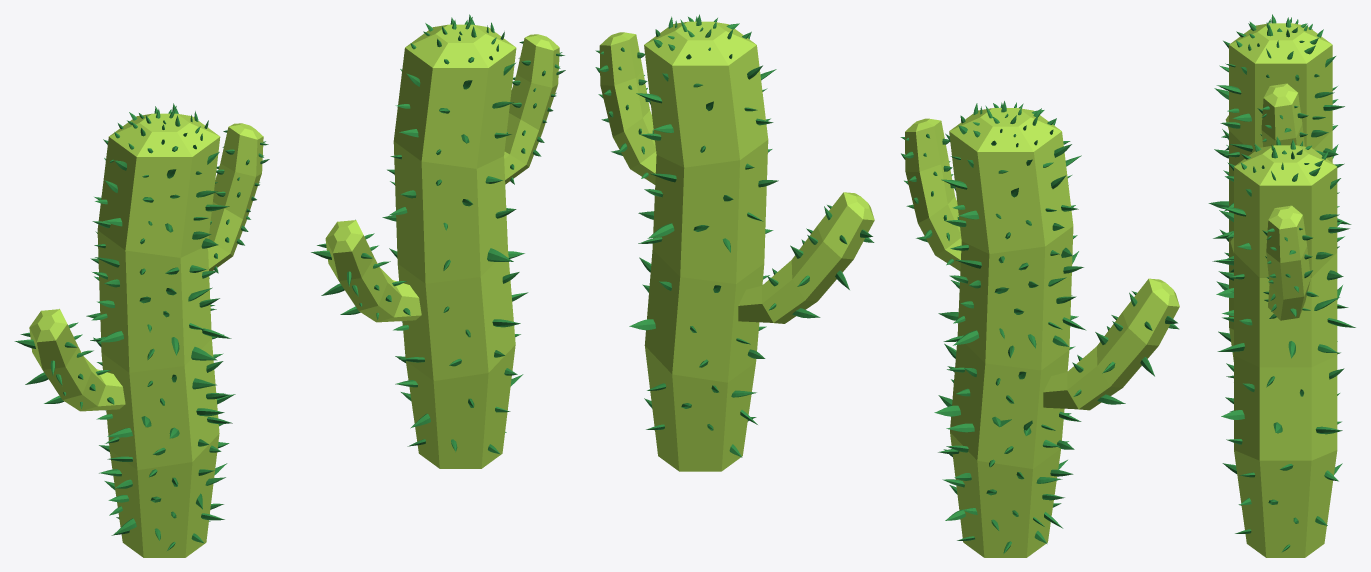
File: Captus.fbx
3 renders of one model, left to right at view 1: azimuth 30°, elevation 25°; view 2: azimuth 150°, elevation 25°; view 3: azimuth 270°, elevation 25°, orthographic. The views are drawn at different scales.
Parts seen in each view (by area): view 1: Captus3, Captus4; view 2: Captus3, Captus4; view 3: Captus4, Captus3.
Part boxes in pixels (x1,y1,x2,y2): Captus3: (14, 103, 269, 557); Captus4: (311, 14, 565, 468); Captus3: (900, 101, 1179, 557); Captus4: (595, 14, 874, 471); Captus4: (1217, 136, 1355, 557); Captus3: (1208, 14, 1351, 411).
Size of the model in its own units: 11.65 by 8.81 by 2.87.
